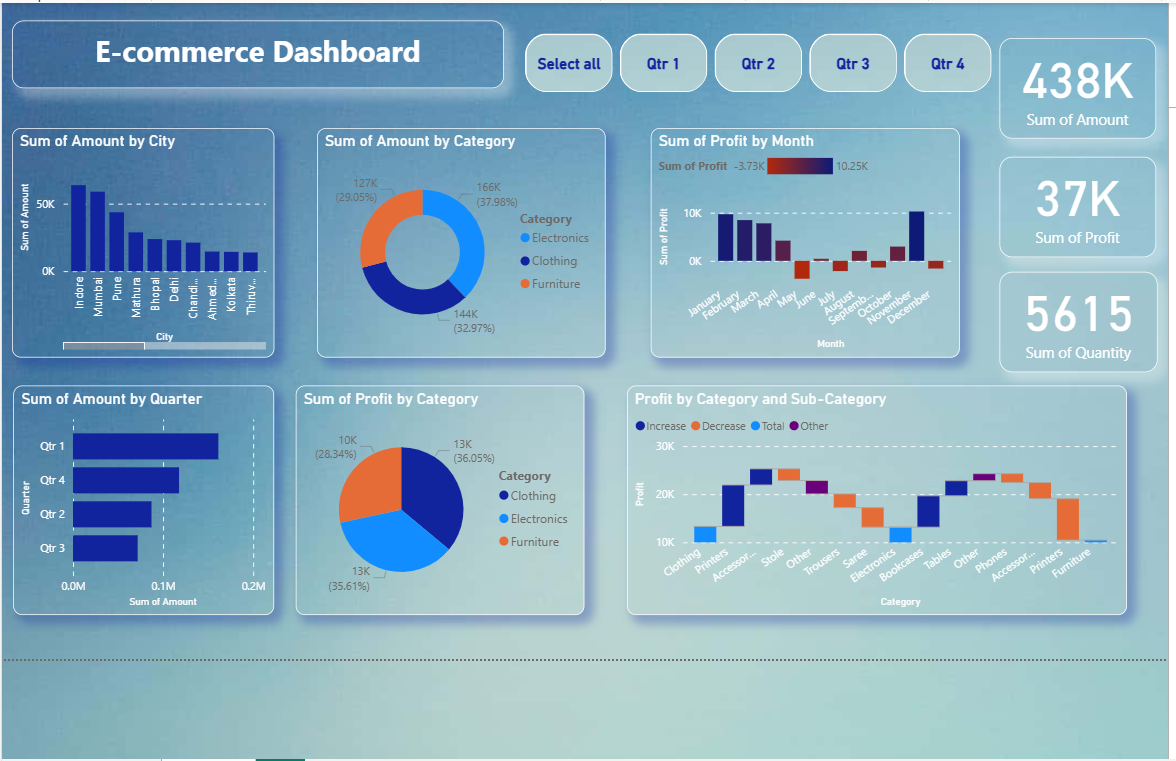

This screenshot's page, from the dashboard's own definition file:
{"tool":"powerbi","page":{"name":"Page 1","canvas":[1280,720],"ordinal":0},"visuals":[{"type":"textbox","box":[11,19.3,540.2,74.4],"z":0},{"type":"card","fields":{"Values":["Sum(Details.Amount)"]},"box":[1095.6,38.6,172.3,110.3],"z":1000},{"type":"card","fields":{"Values":["Sum(Details.Quantity)"]},"box":[1095.6,294.9,173.6,110.3],"z":2000},{"type":"card","fields":{"Values":["Sum(Details.Profit)"]},"box":[1095.6,168.1,172.3,110.3],"z":3000},{"type":"columnChart","fields":{"Category":["Orders.City"],"Y":["Sum(Details.Amount)"]},"box":[11,137.8,288,252.2],"z":4000},{"type":"barChart","fields":{"Category":["Orders.Order Date","Orders.Order Date","Orders.Order Date.Variation.Date Hierarchy.Quarter"],"Y":["Sum(Details.Amount)"]},"box":[12.4,420.3,286.7,252.2],"z":5000},{"type":"advancedSlicerVisual","fields":{"Values":["Orders.Order Date.Variation.Date Hierarchy.Quarter"]},"box":[569.2,28.9,525.1,74.4],"z":6000},{"type":"donutChart","fields":{"Category":["Details.Category"],"Y":["Sum(Details.Amount)"]},"box":[345.9,137.8,317,252.2],"z":7000},{"type":"pieChart","fields":{"Y":["Sum(Details.Profit)"],"Category":["Details.Category"]},"box":[322.5,420.3,317,252.2],"z":8000},{"type":"waterfallChart","fields":{"Y":["Sum(Details.Profit)"],"Category":["Details.Category"],"Breakdown":["Details.Sub-Category"]},"box":[686.3,420.3,548.5,252.2],"z":8001},{"type":"columnChart","fields":{"Y":["Sum(Details.Profit)"],"Category":["Orders.Order Date.Variation.Date Hierarchy.Month"]},"box":[712.5,137.8,339,252.2],"z":8002}]}

Visuals, with their boxes on the page's 1280x720 design canvas (x1, y1, x2, y2). These are canvas units, not pixel positions in the 1176x761 screenshot, which may show the page scaled, cropped or inside an application window:
textbox: [11,19,551,94]
card - Sum(Details.Amount): [1096,39,1268,149]
card - Sum(Details.Quantity): [1096,295,1269,405]
card - Sum(Details.Profit): [1096,168,1268,278]
columnChart - Orders.City x Sum(Details.Amount): [11,138,299,390]
barChart - Orders.Order Date x Orders.Order Date: [12,420,299,672]
advancedSlicerVisual - Orders.Order Date.Variation.Date Hierarchy.Quarter: [569,29,1094,103]
donutChart - Details.Category x Sum(Details.Amount): [346,138,663,390]
pieChart - Sum(Details.Profit) x Details.Category: [322,420,640,672]
waterfallChart - Sum(Details.Profit) x Details.Category: [686,420,1235,672]
columnChart - Sum(Details.Profit) x Orders.Order Date.Variation.Date Hierarchy.Month: [712,138,1052,390]
